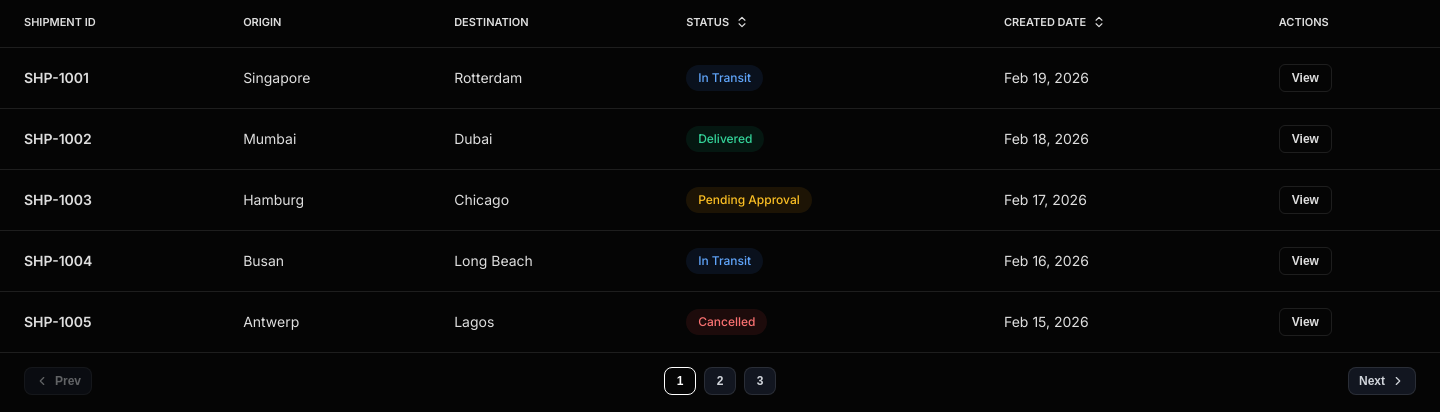
RecentShipments › paginates with next and page number controls
Click the button named "Page 2".
click(720, 380)  # box [704,366,736,394]
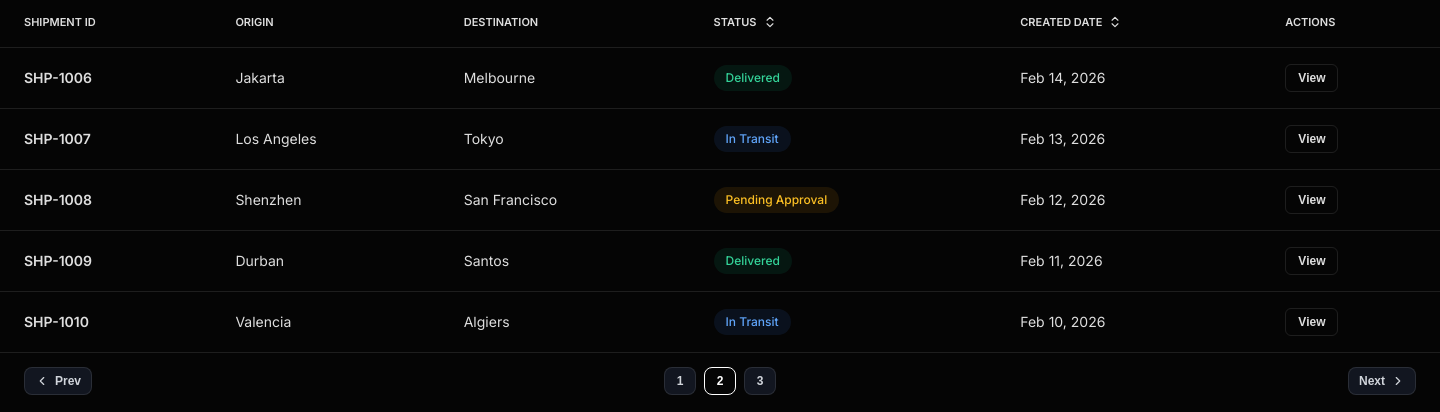
expect the text "SHP-1006" is shown: met, box [0,47,211,108]
Click the button named "next page".
click(1382, 380)  # box [1348,366,1416,394]
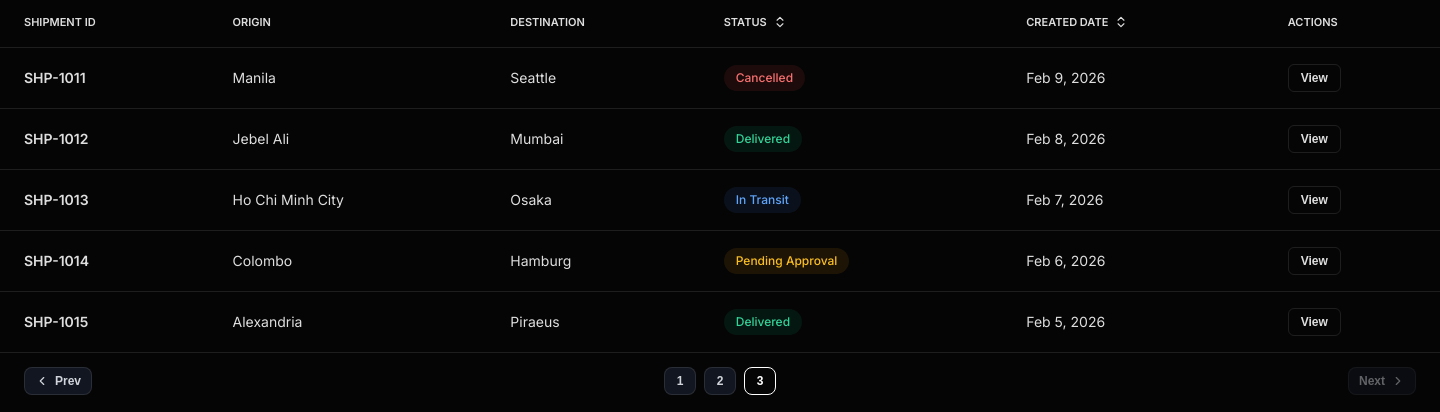
expect the text "SHP-1011" is shown: met, box [0,47,208,108]
